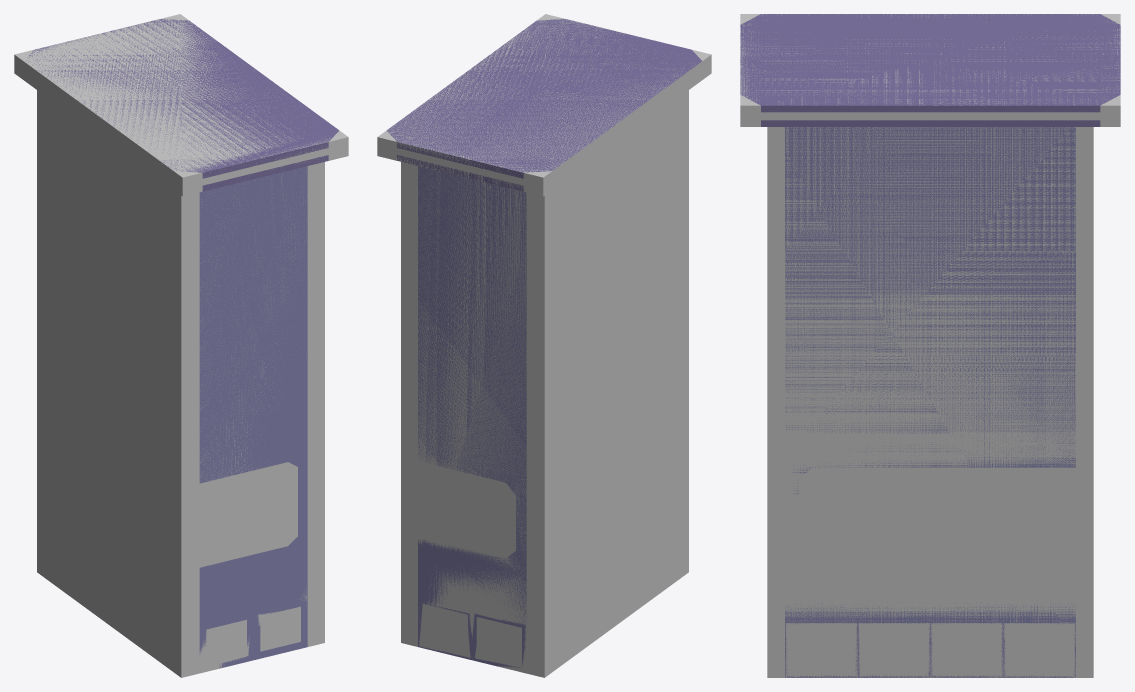
The model's file is SM_Building_16_Top.fbx.
The picture shows the model from 3 angles, left to right: view 1: azimuth 30°, elevation 25°; view 2: azimuth 150°, elevation 25°; view 3: azimuth 270°, elevation 25°; orthographic projection. The views are drawn at different scales.
Parts seen in each view (by area): view 1: SM_Building_16_Top_ConvexHulls, SM_Building_16_Top; view 2: SM_Building_16_Top_ConvexHulls, SM_Building_16_Top; view 3: SM_Building_16_Top_ConvexHulls, SM_Building_16_Top.
Part boxes in pixels (x1=…): SM_Building_16_Top_ConvexHulls: x1=14, y1=14, x2=348, y2=677; SM_Building_16_Top: x1=25, y1=19, x2=338, y2=668; SM_Building_16_Top_ConvexHulls: x1=377, y1=14, x2=711, y2=677; SM_Building_16_Top: x1=386, y1=19, x2=701, y2=668; SM_Building_16_Top_ConvexHulls: x1=740, y1=14, x2=1120, y2=677; SM_Building_16_Top: x1=740, y1=14, x2=1120, y2=677.
Bounding box in the file's own units: 480 × 842 × 1412.
Materials: 2 (1 with a texture image).
